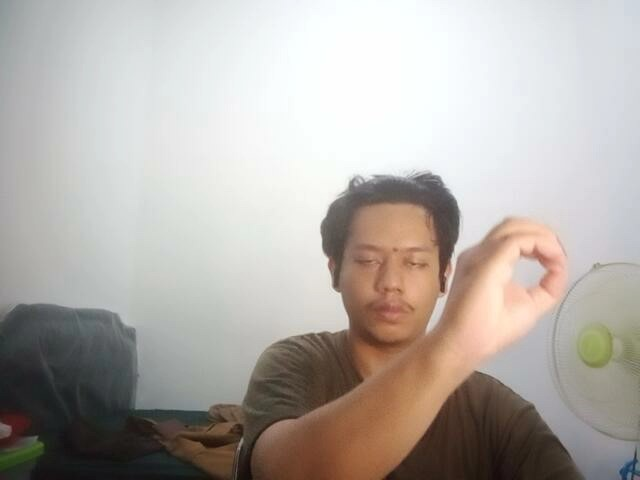O: (442, 207, 584, 349)
